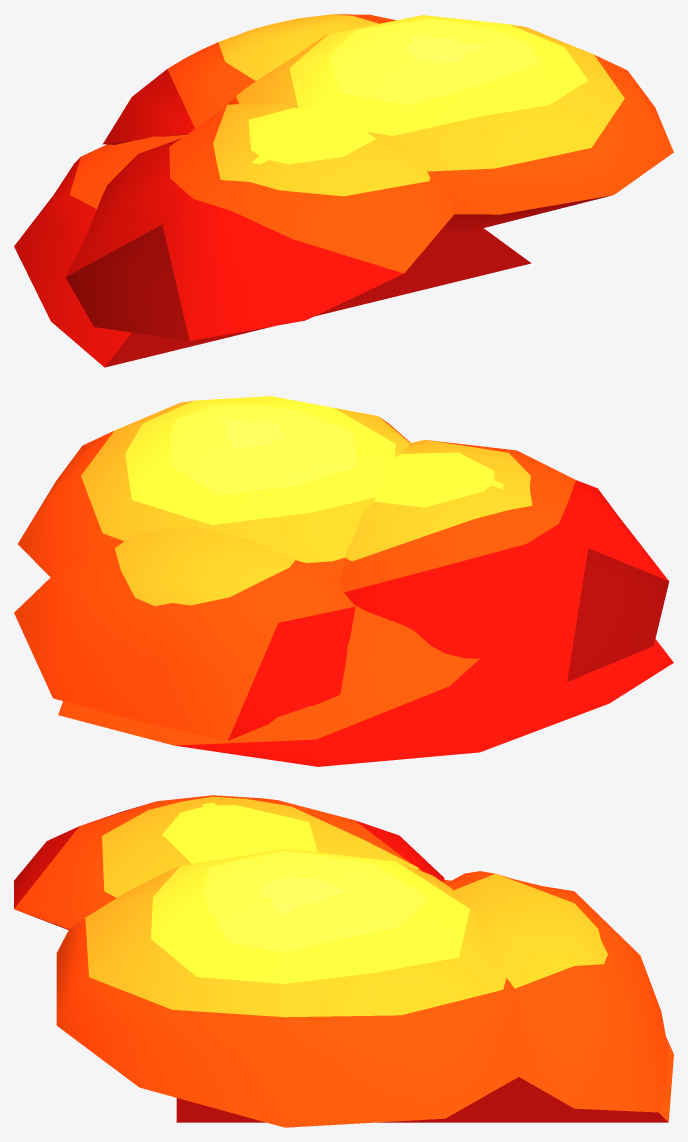
File: shot_zflame_178.glb
The picture shows the model from 3 angles, top to bottom: view 1: azimuth 30°, elevation 25°; view 2: azimuth 150°, elevation 25°; view 3: azimuth 270°, elevation 25°; orthographic projection. The views are drawn at different scales.
Parts seen in each view (by area): view 1: zflame_6_billow1_b178, zflame_6_billow0_b178, zflame_6_bed_b178, zflame_6_billow2_b178; view 2: zflame_6_billow1_b178, zflame_6_billow2_b178, zflame_6_billow0_b178, zflame_6_bed_b178; view 3: zflame_6_billow0_b178, zflame_6_billow2_b178, zflame_6_billow1_b178, zflame_6_bed_b178.
Part boxes in pixels (bbox=[...]): zflame_6_billow1_b178: bbox=[65, 103, 455, 340]; zflame_6_billow0_b178: bbox=[225, 15, 673, 234]; zflame_6_bed_b178: bbox=[14, 134, 531, 367]; zflame_6_billow2_b178: bbox=[103, 14, 395, 144]; zflame_6_billow1_b178: bbox=[340, 440, 669, 681]; zflame_6_billow2_b178: bbox=[14, 527, 355, 740]; zflame_6_billow0_b178: bbox=[18, 396, 410, 589]; zflame_6_bed_b178: bbox=[58, 605, 673, 766]; zflame_6_billow0_b178: bbox=[56, 849, 524, 1127]; zflame_6_billow2_b178: bbox=[446, 871, 667, 1112]; zflame_6_billow1_b178: bbox=[14, 795, 444, 929]; zflame_6_bed_b178: bbox=[176, 879, 673, 1122].
Bounding box in the file's own units: 10.82 × 3.21 × 9.13.
